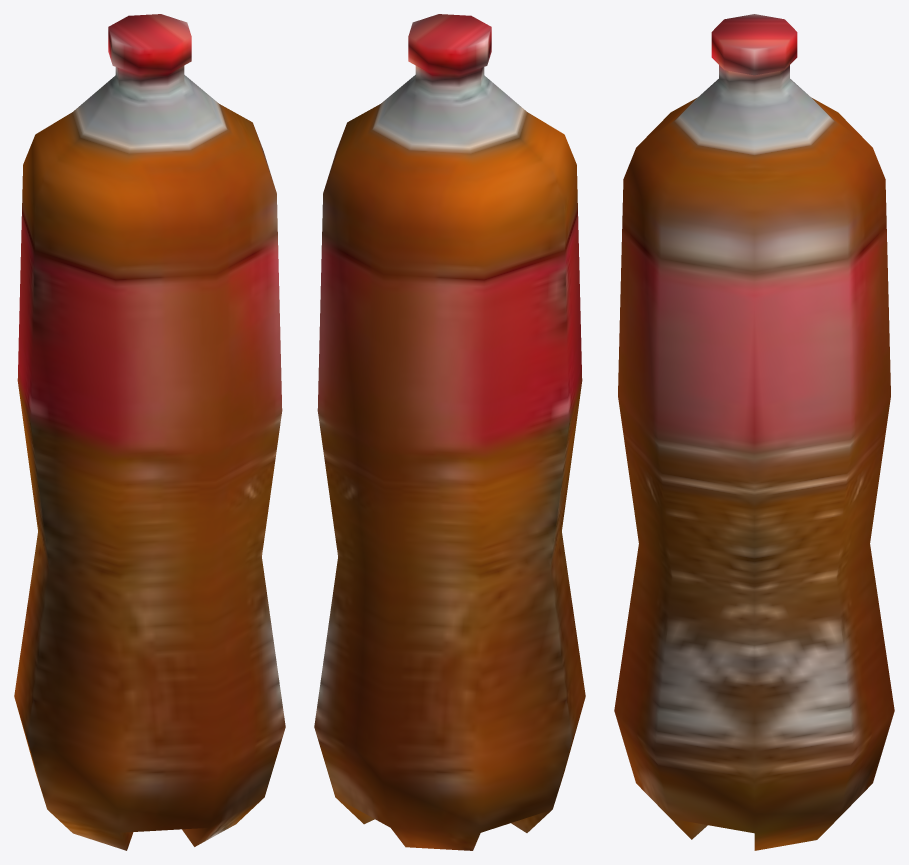
Rendered from Soda_15.glb.
The picture shows the model from 3 angles, left to right: view 1: azimuth 30°, elevation 25°; view 2: azimuth 150°, elevation 25°; view 3: azimuth 270°, elevation 25°; orthographic projection.
Visible parts, largest first — view 1: Soda_15; view 2: Soda_15; view 3: Soda_15.
Part boxes in pixels (box(x1,y1,x2,y2)): Soda_15: box(14, 14, 285, 850); Soda_15: box(314, 14, 585, 850); Soda_15: box(614, 14, 894, 850).
Bounding box in the file's own units: 0.1886 × 0.5797 × 0.1886.
1 material, 1 textured.
